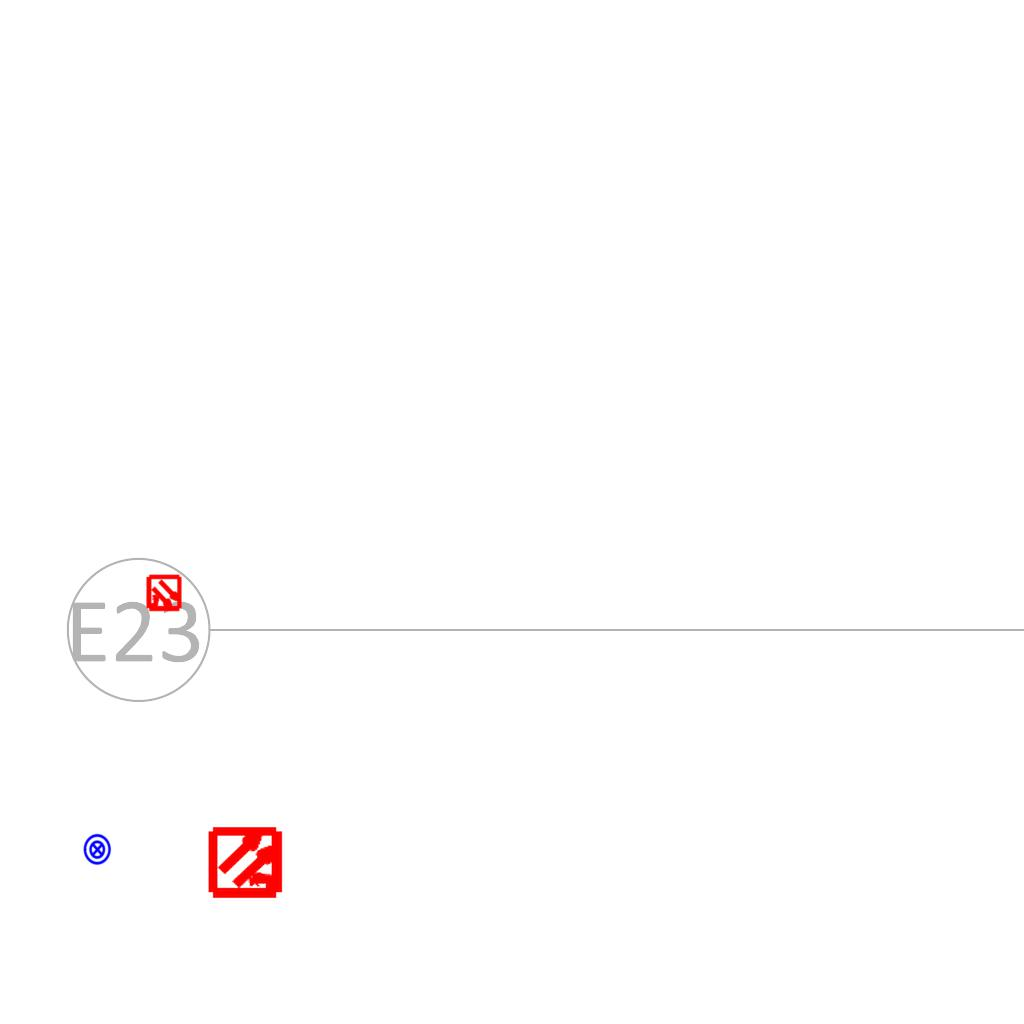OT_Multisensormelder_(Kombination_RMO_WMD): (191, 806, 304, 919), (136, 566, 192, 622)
Taster_beleuchtet: (81, 833, 114, 866)
